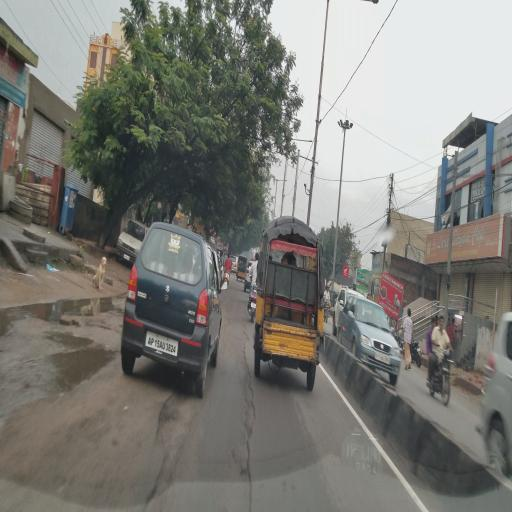street_light_0: (290, 127, 318, 157), (270, 168, 288, 190)
